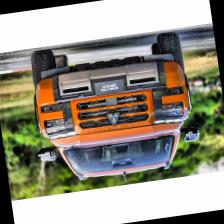NON-EV: (25, 30, 208, 197)
